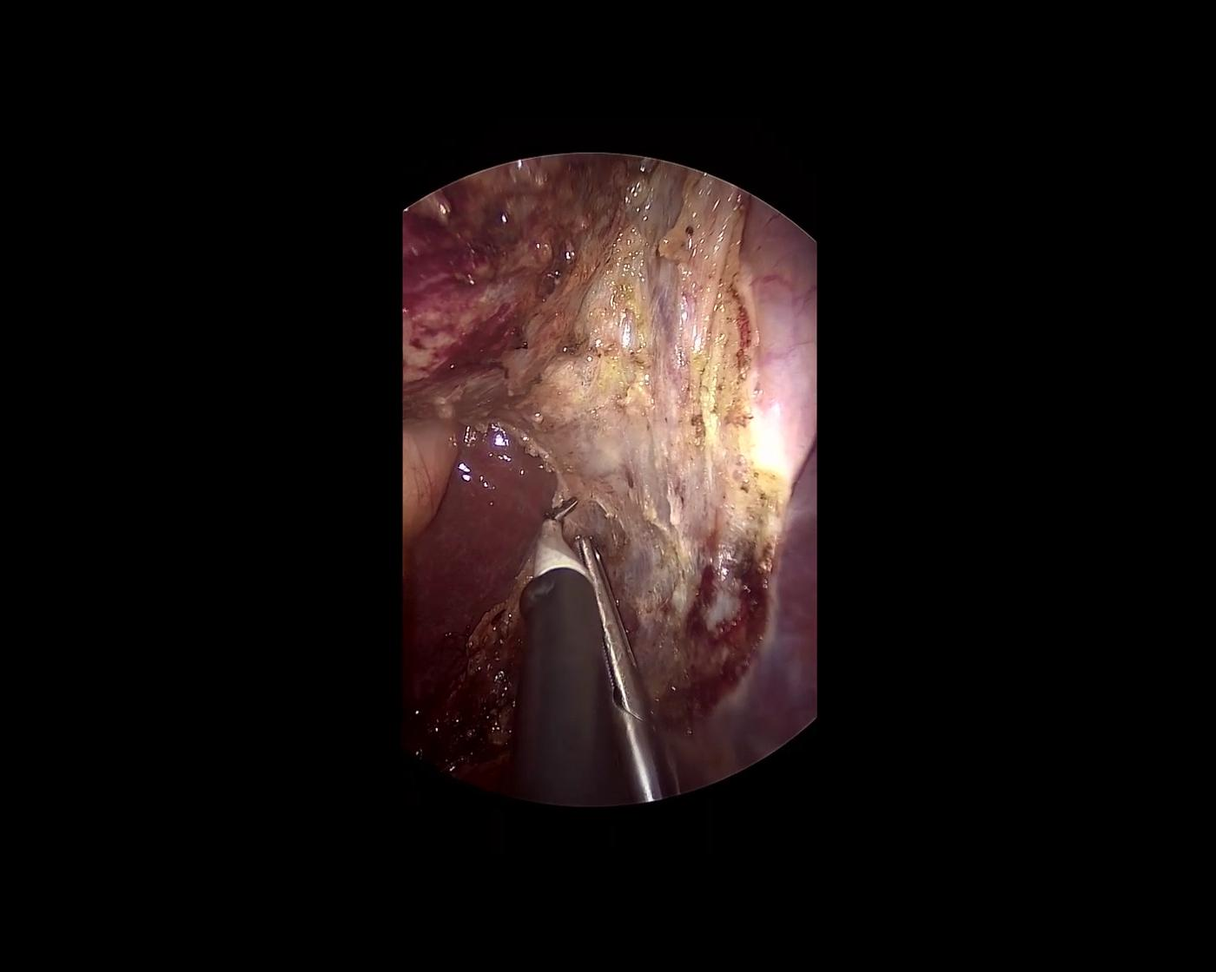Cautery: (513, 495, 597, 807)
Forceps: (554, 534, 672, 805)
Gallbladder: (400, 157, 643, 421)
Liver: (337, 422, 571, 740)
